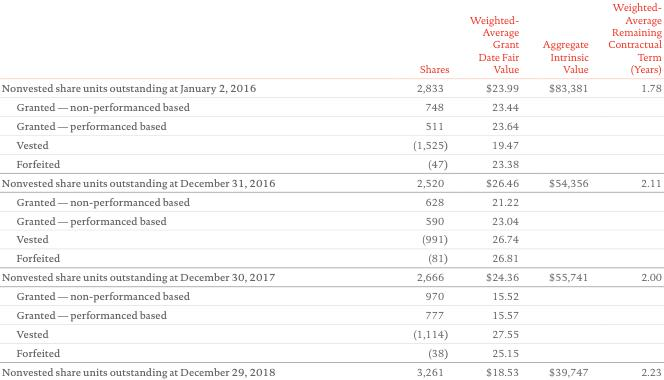table: (0, 0, 661, 377)
table column: (0, 0, 343, 377), (343, 0, 458, 377), (458, 0, 530, 377), (530, 0, 597, 377), (597, 0, 661, 377)
table column header: (0, 0, 661, 78)
table row: (0, 0, 661, 78), (0, 78, 661, 97), (0, 115, 661, 134), (0, 134, 661, 153), (0, 153, 661, 172), (0, 172, 661, 191), (0, 191, 661, 210), (0, 210, 661, 229), (0, 229, 661, 248), (0, 248, 661, 267), (0, 267, 661, 286), (0, 304, 661, 323), (0, 323, 661, 342), (0, 342, 661, 361), (0, 97, 661, 115), (0, 286, 661, 304), (0, 361, 661, 377)
